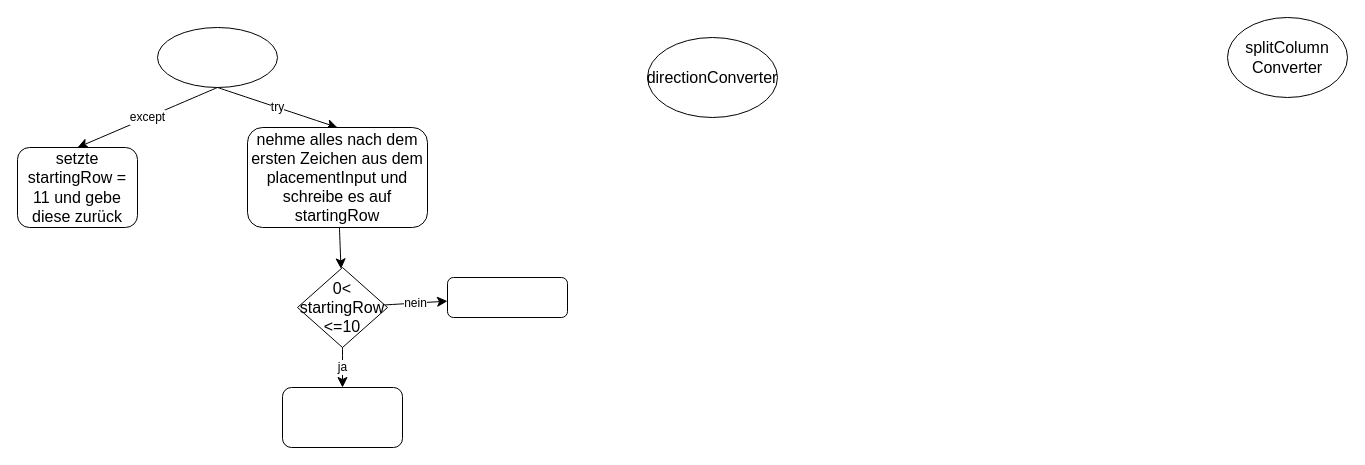
Some shapes in this 1365 by 465 pixel diagram are drawn without their labels. The centre of each missing label's shape, as x and y in pixels:
"gebe startingRow zurück" goes at point (342, 417).
"raise ValueError" goes at point (507, 297).
"splitRow" goes at point (217, 57).
